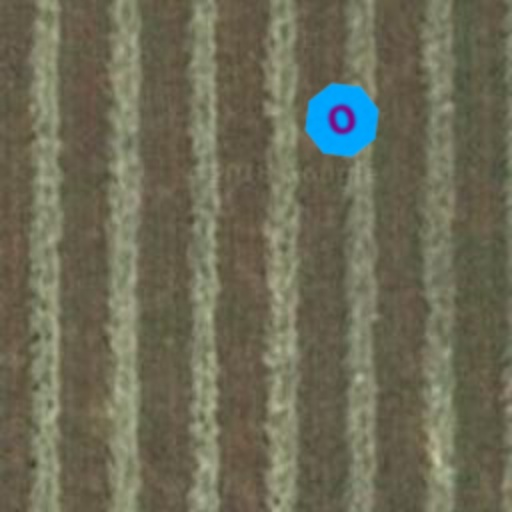octagon: (294, 72, 390, 168)
